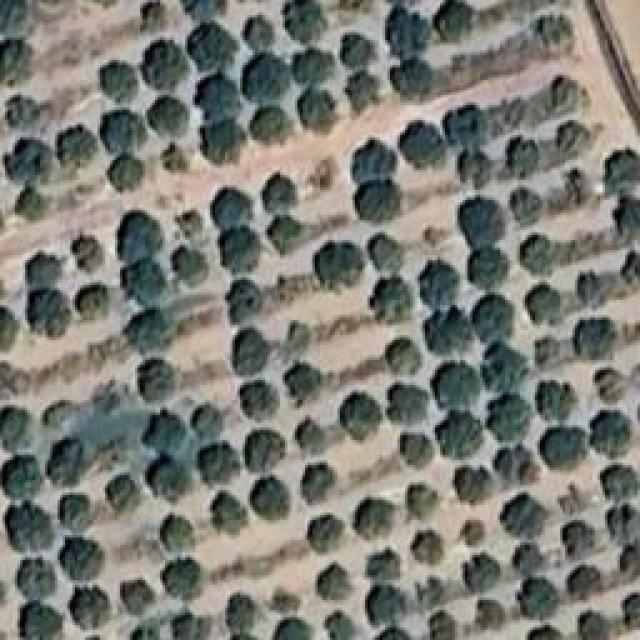Tree: (340, 33, 379, 114), (117, 258, 172, 306), (188, 22, 239, 72), (243, 53, 292, 105), (5, 504, 55, 554), (140, 40, 189, 91), (425, 305, 474, 355), (313, 243, 364, 291), (143, 453, 194, 501), (118, 210, 164, 263), (433, 363, 483, 411), (400, 120, 448, 168), (435, 410, 483, 458), (385, 10, 433, 58), (25, 288, 71, 338), (488, 393, 534, 442), (483, 344, 528, 394), (123, 307, 172, 352), (340, 392, 384, 442), (0, 137, 47, 183), (353, 178, 401, 223), (500, 494, 549, 538), (473, 295, 516, 345), (461, 245, 508, 290), (197, 72, 242, 118), (220, 225, 263, 273), (143, 410, 188, 455), (443, 105, 487, 151), (370, 278, 414, 324), (0, 455, 44, 500), (420, 260, 461, 308), (100, 154, 149, 194), (493, 445, 539, 487), (0, 35, 41, 82), (48, 438, 88, 486), (285, 0, 329, 43), (460, 197, 503, 241), (543, 428, 588, 470), (100, 110, 145, 152), (200, 120, 246, 161), (263, 215, 310, 255), (590, 410, 630, 457), (210, 188, 253, 231), (198, 443, 241, 486), (347, 135, 392, 176), (232, 328, 270, 376), (58, 125, 99, 168), (63, 538, 104, 581), (245, 430, 286, 473), (285, 362, 324, 407), (390, 60, 437, 97), (365, 585, 406, 627), (518, 578, 559, 620), (70, 588, 110, 631), (388, 384, 431, 424), (575, 320, 618, 360), (298, 88, 337, 132), (225, 280, 263, 325), (433, 0, 474, 41), (605, 147, 640, 195), (100, 60, 139, 103), (18, 558, 57, 601), (137, 358, 175, 402), (293, 48, 337, 86), (240, 380, 280, 421), (353, 498, 394, 538), (20, 602, 63, 640), (250, 105, 293, 143), (252, 478, 290, 521), (163, 558, 202, 599), (148, 98, 189, 136), (213, 493, 249, 536), (600, 465, 640, 503), (462, 552, 500, 592), (565, 565, 605, 603), (550, 75, 590, 112), (173, 245, 209, 286), (368, 233, 404, 274), (508, 135, 542, 178), (0, 405, 31, 452), (225, 593, 256, 640), (540, 383, 578, 421), (308, 515, 344, 555), (525, 285, 561, 325), (520, 235, 554, 277), (25, 253, 63, 290), (563, 165, 599, 204), (263, 174, 298, 214), (303, 464, 337, 504), (540, 15, 574, 55), (75, 283, 111, 320), (385, 338, 421, 375), (105, 475, 140, 513), (510, 188, 544, 227), (607, 502, 640, 542), (318, 563, 353, 600), (0, 0, 35, 37), (555, 120, 590, 157), (243, 13, 280, 48), (160, 515, 194, 553), (458, 468, 492, 506), (5, 95, 40, 131), (563, 520, 597, 557), (73, 235, 106, 273), (460, 150, 493, 188), (307, 156, 340, 194), (175, 0, 225, 25), (578, 275, 615, 308), (190, 405, 227, 438), (612, 198, 640, 241), (268, 588, 307, 618), (13, 185, 47, 219), (123, 580, 155, 616), (60, 495, 91, 532), (400, 434, 433, 468), (368, 548, 402, 581), (413, 533, 446, 566), (295, 418, 325, 454), (408, 485, 438, 521), (513, 543, 544, 576), (415, 578, 445, 611), (458, 515, 488, 548), (532, 338, 565, 368), (285, 324, 316, 354), (577, 610, 609, 639), (600, 370, 628, 403), (475, 600, 505, 630), (43, 400, 76, 427), (0, 303, 18, 351), (272, 618, 310, 640), (140, 0, 166, 32), (172, 618, 208, 640), (617, 592, 640, 626), (163, 142, 189, 172), (622, 248, 640, 291), (175, 210, 203, 237), (430, 613, 456, 640), (620, 548, 640, 581), (328, 615, 354, 640), (375, 627, 410, 640), (527, 627, 557, 640)
